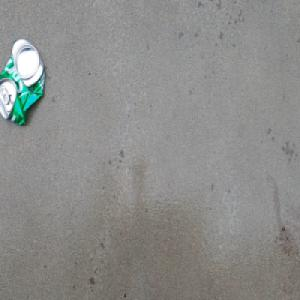SodaCan: (0, 39, 46, 129)
